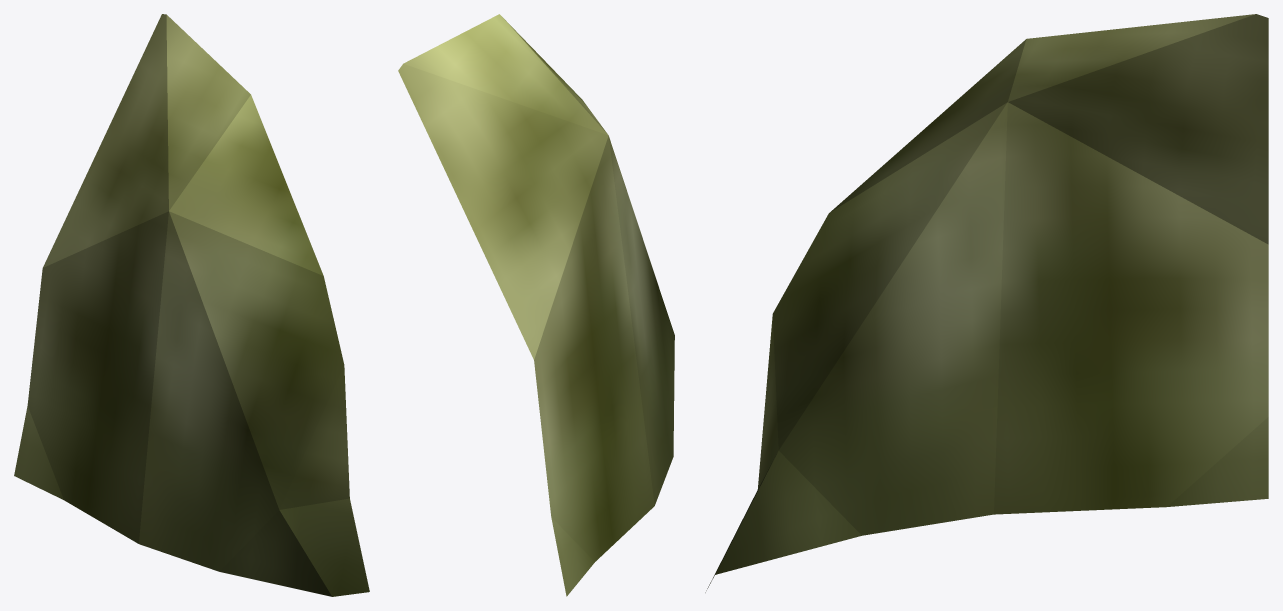
3 renders of one model, left to right at view 1: azimuth 30°, elevation 25°; view 2: azimuth 150°, elevation 25°; view 3: azimuth 270°, elevation 25°, orthographic. The views are drawn at different scales.
Size of the model in its own units: 0.0733 by 0.2031 by 0.1785.
Materials: 1 (1 with a texture image).
